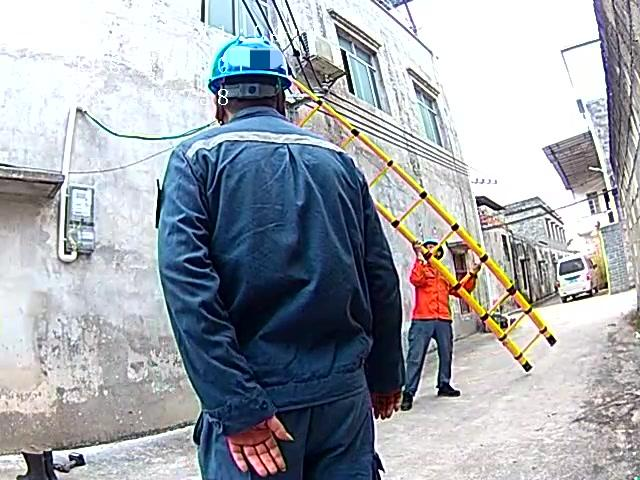halt: (210, 44, 292, 110)
